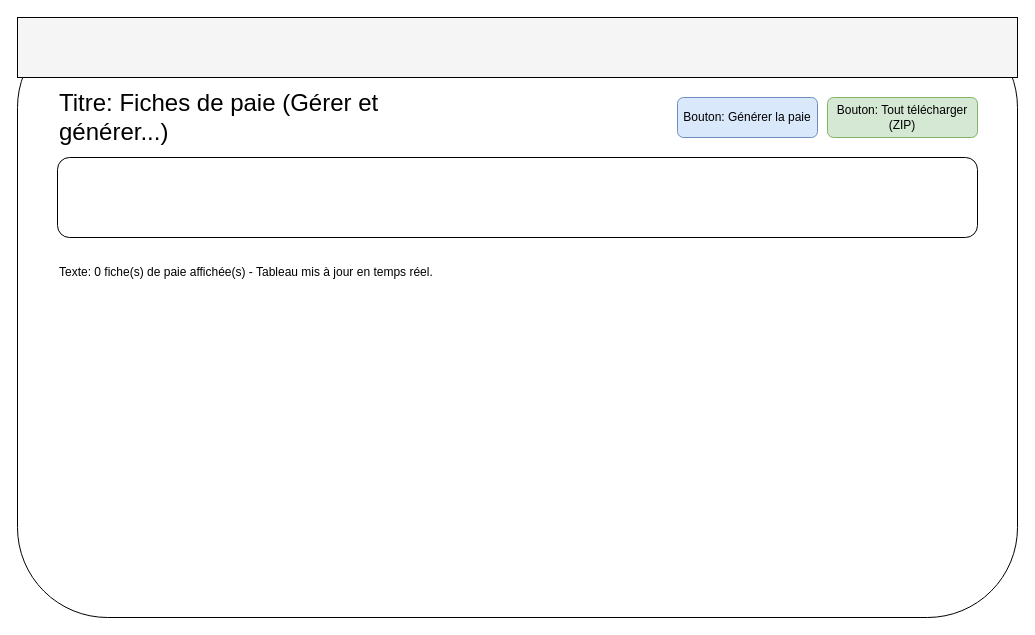
Some shapes in this 1035 by 635 pixel diagram are drawn without their labels. Each missing label, with the centre of its shape:
Filtres: Employé | Établissement | Période | Salaire Net | Date: pixel 517 197
Navbar: Accueil | Employés | Fiches de paie | Paramètres: pixel 517 47
